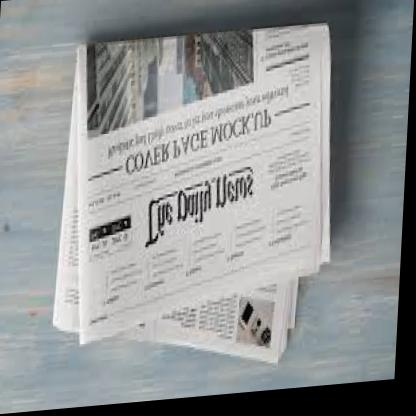Paper: (27, 2, 365, 393)
